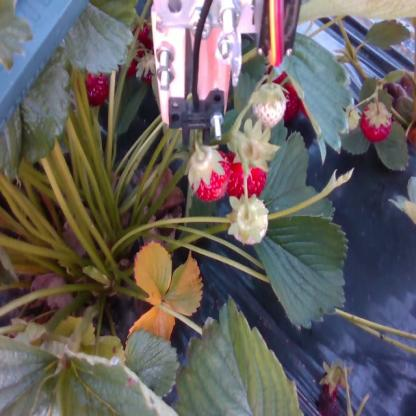ripe: (186, 149, 232, 199), (225, 154, 268, 200), (274, 68, 308, 121), (364, 102, 393, 142), (81, 71, 106, 106), (132, 18, 152, 43), (125, 48, 143, 74), (142, 56, 158, 82)
unripe: (229, 198, 274, 244), (252, 86, 286, 127)
